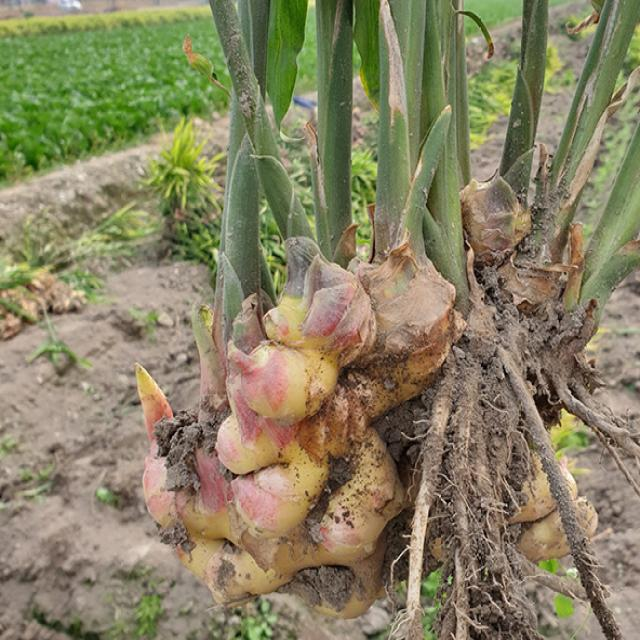ginger: (131, 278, 427, 562)
